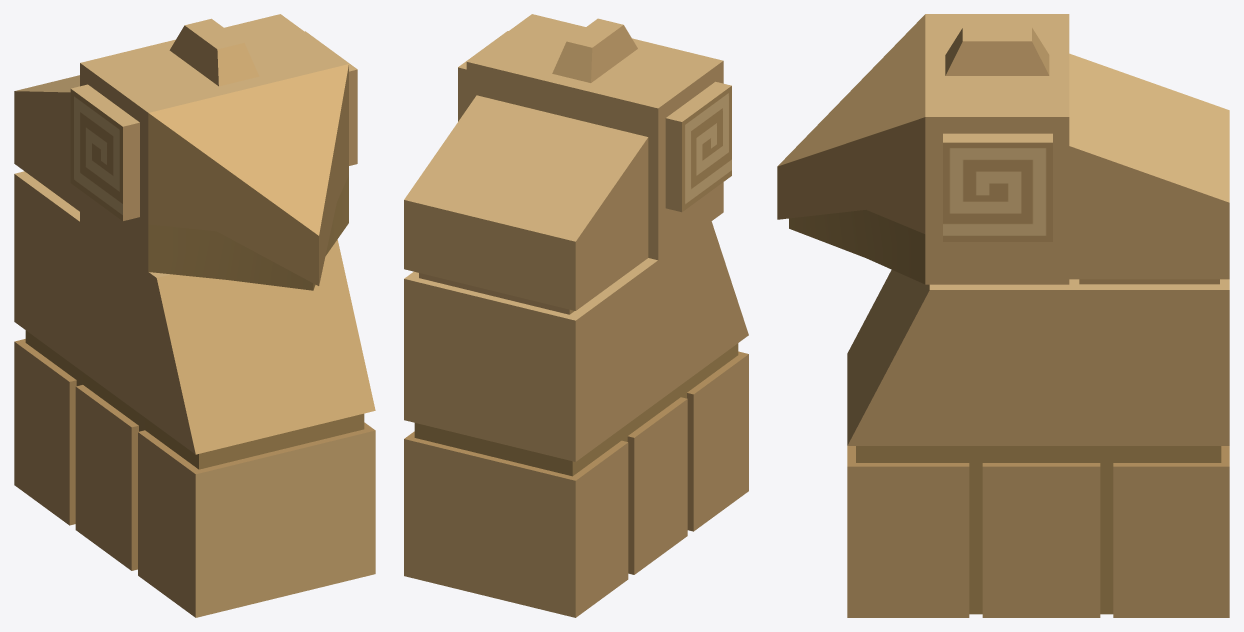
File: ST_Prop_Statue_02.fbx
The picture shows the model from 3 angles, left to right: view 1: azimuth 30°, elevation 25°; view 2: azimuth 150°, elevation 25°; view 3: azimuth 270°, elevation 25°; orthographic projection. The views are drawn at different scales.
Parts seen in each view (by area): view 1: ST_Prop_Statue_02; view 2: ST_Prop_Statue_02; view 3: ST_Prop_Statue_02.
Boxes of the visible parts, <box> form: ST_Prop_Statue_02: <box>14,14,375,617</box>; ST_Prop_Statue_02: <box>404,14,748,617</box>; ST_Prop_Statue_02: <box>777,14,1229,617</box>.
Bounding box in the file's own units: 0.8886 × 1.84 × 1.41.
